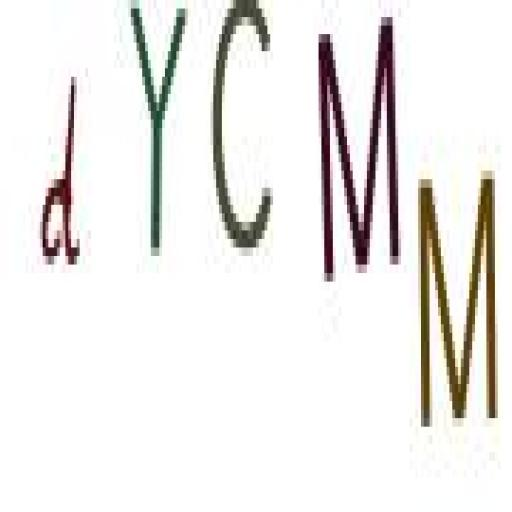C: (204, 0, 276, 275)
M: (316, 7, 405, 282), (414, 165, 499, 437)
Y: (123, 0, 189, 266)
d: (38, 64, 82, 298)
